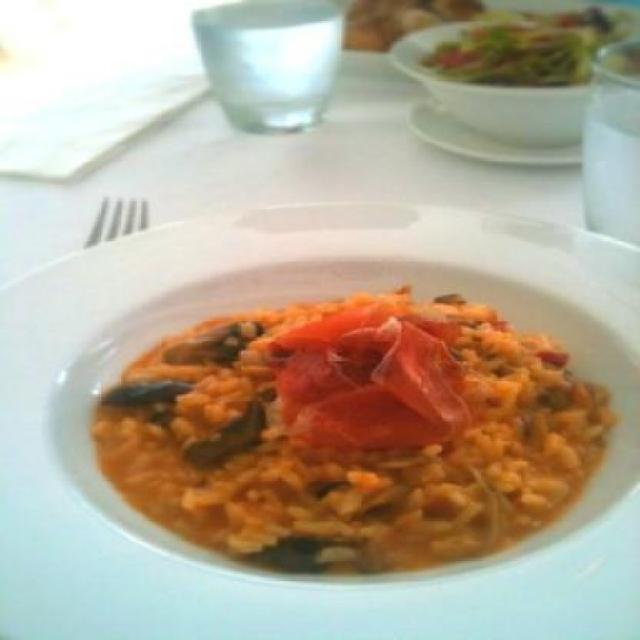Risotto: (90, 268, 595, 568)
